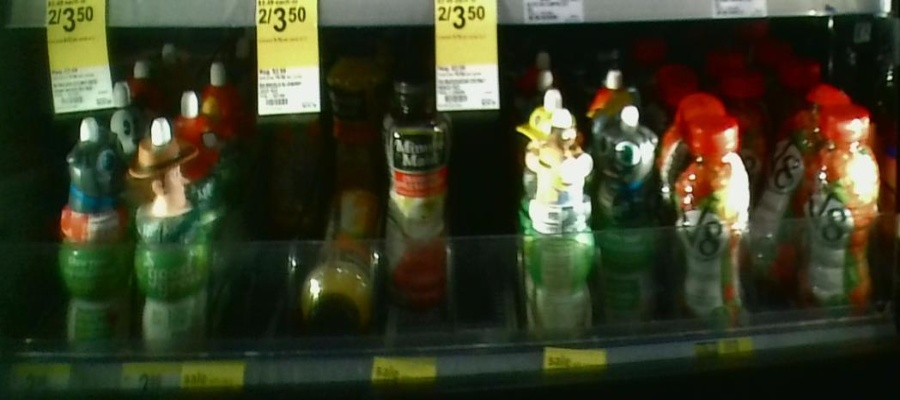bottle: (56, 116, 134, 355), (136, 119, 215, 353), (674, 109, 748, 334), (806, 108, 880, 318), (387, 62, 450, 306), (533, 105, 596, 346), (602, 100, 666, 331), (311, 193, 380, 337), (756, 114, 802, 293)
